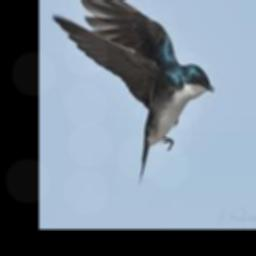Swallow: (52, 0, 213, 183)
